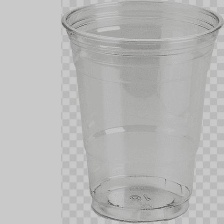glass: (60, 0, 224, 224)
